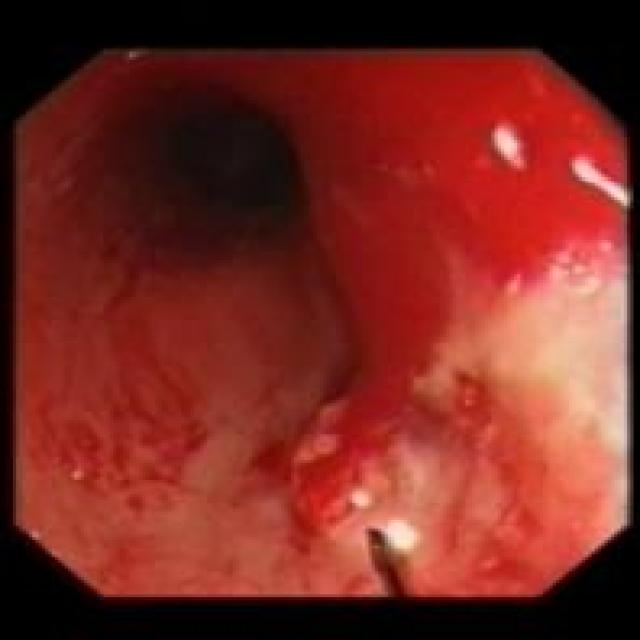blood: (47, 61, 595, 498)
bubbles: (546, 243, 606, 290)
contrast: (16, 53, 353, 367)
instrument: (361, 518, 434, 595)
saturation: (451, 218, 626, 470)
specularity: (381, 518, 421, 560), (489, 126, 525, 166), (566, 155, 606, 186), (343, 486, 379, 511)
